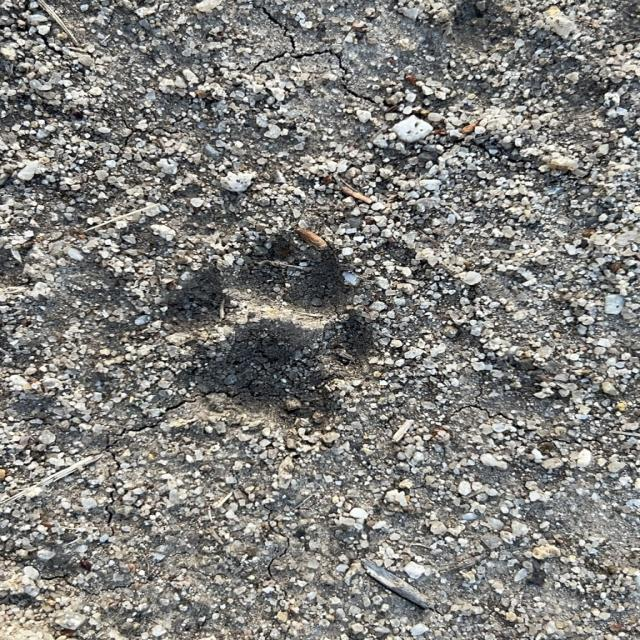felid: (176, 243, 366, 412)
